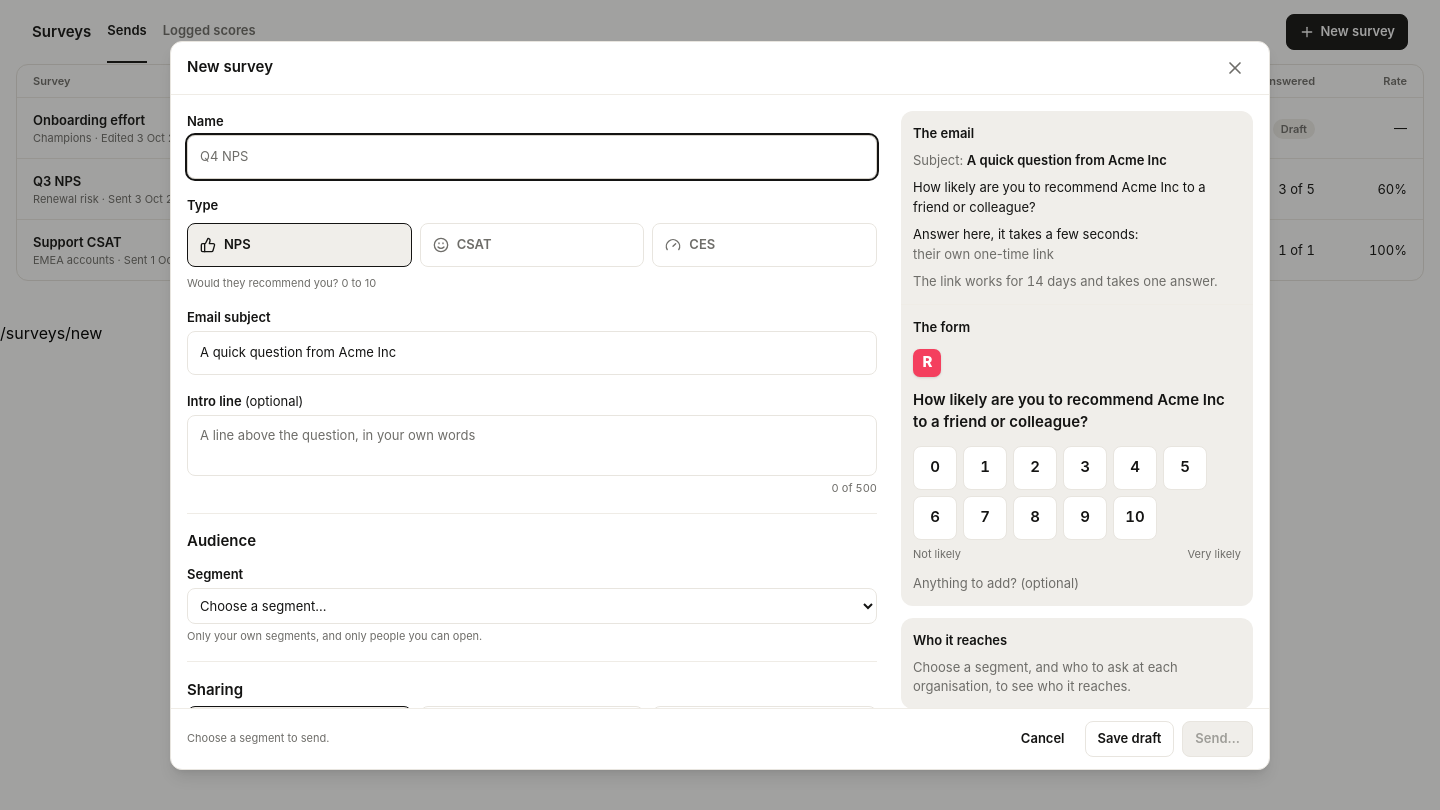
Scenario: the New survey modal (spec §2.2) › saves a draft with the contract body, then opens its page
Type "Q4 CSAT" into the field labelled "Name".
click(532, 156); type("Q4 CSAT")  # box [187,134,877,178]
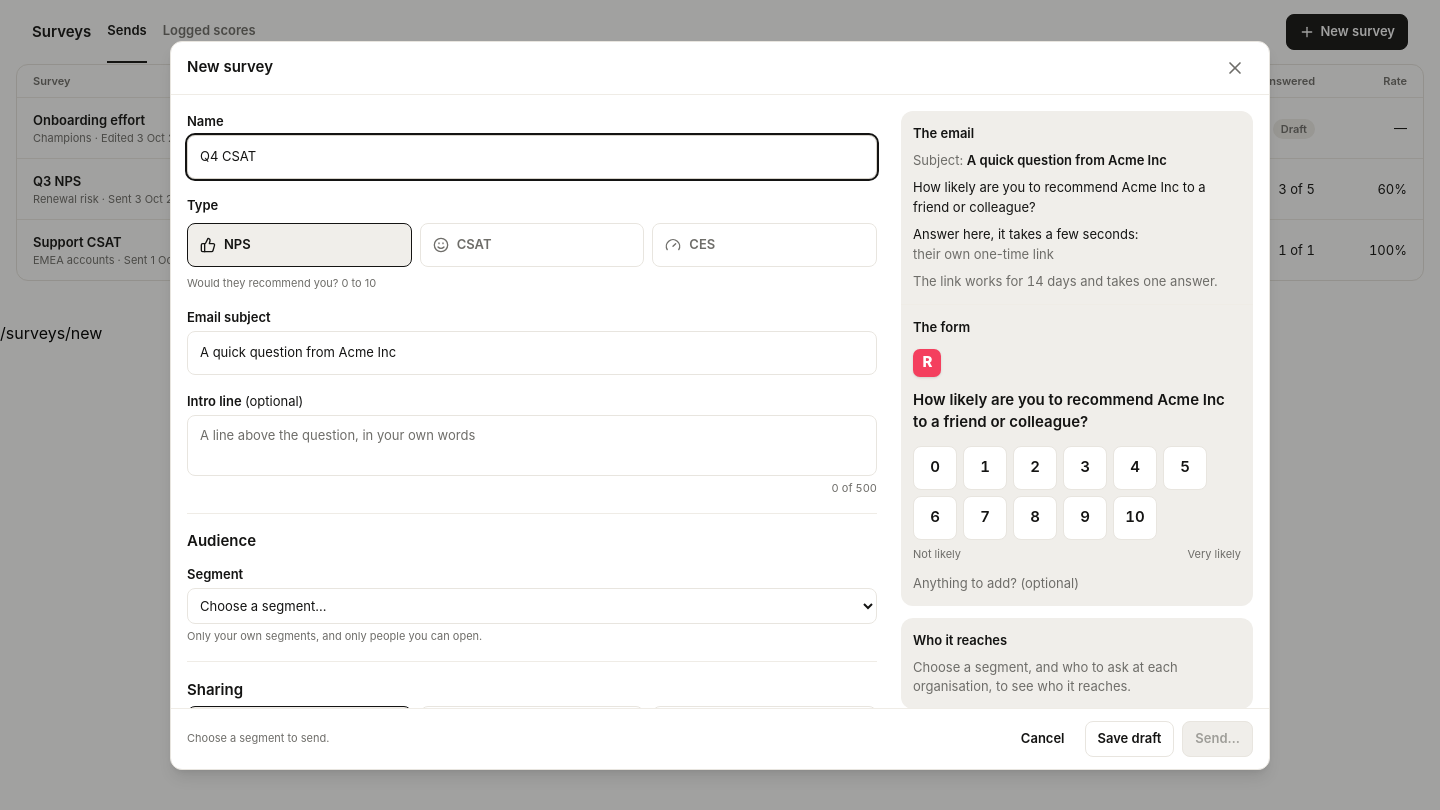
Click the radio button labelled "CSAT".
click(532, 244)  # box [420,222,644,266]
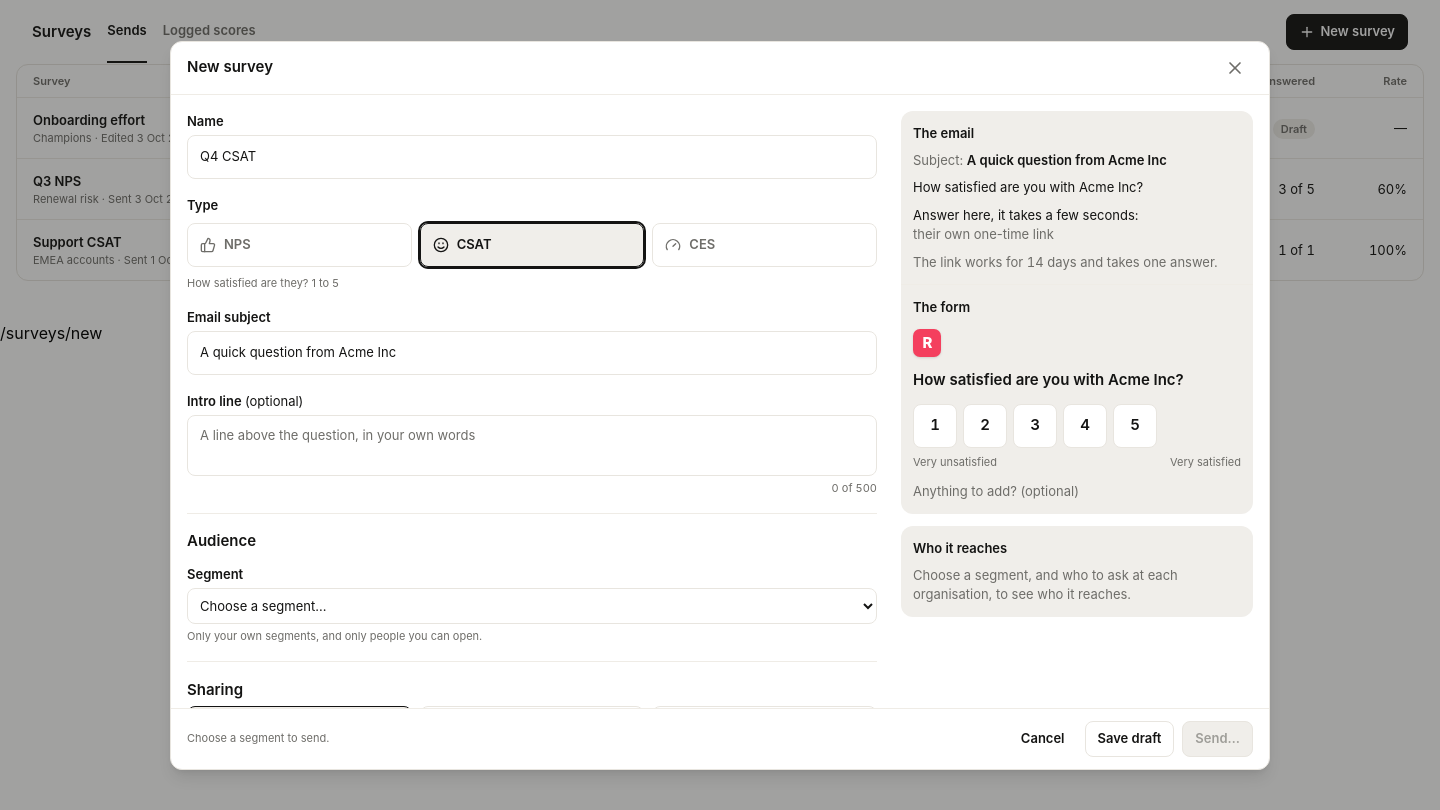
Type "Thanks for a good quarter." into the text box labelled "Intro line (optional)".
click(532, 446); type("Thanks for a good quarter.")  # box [187,415,877,476]
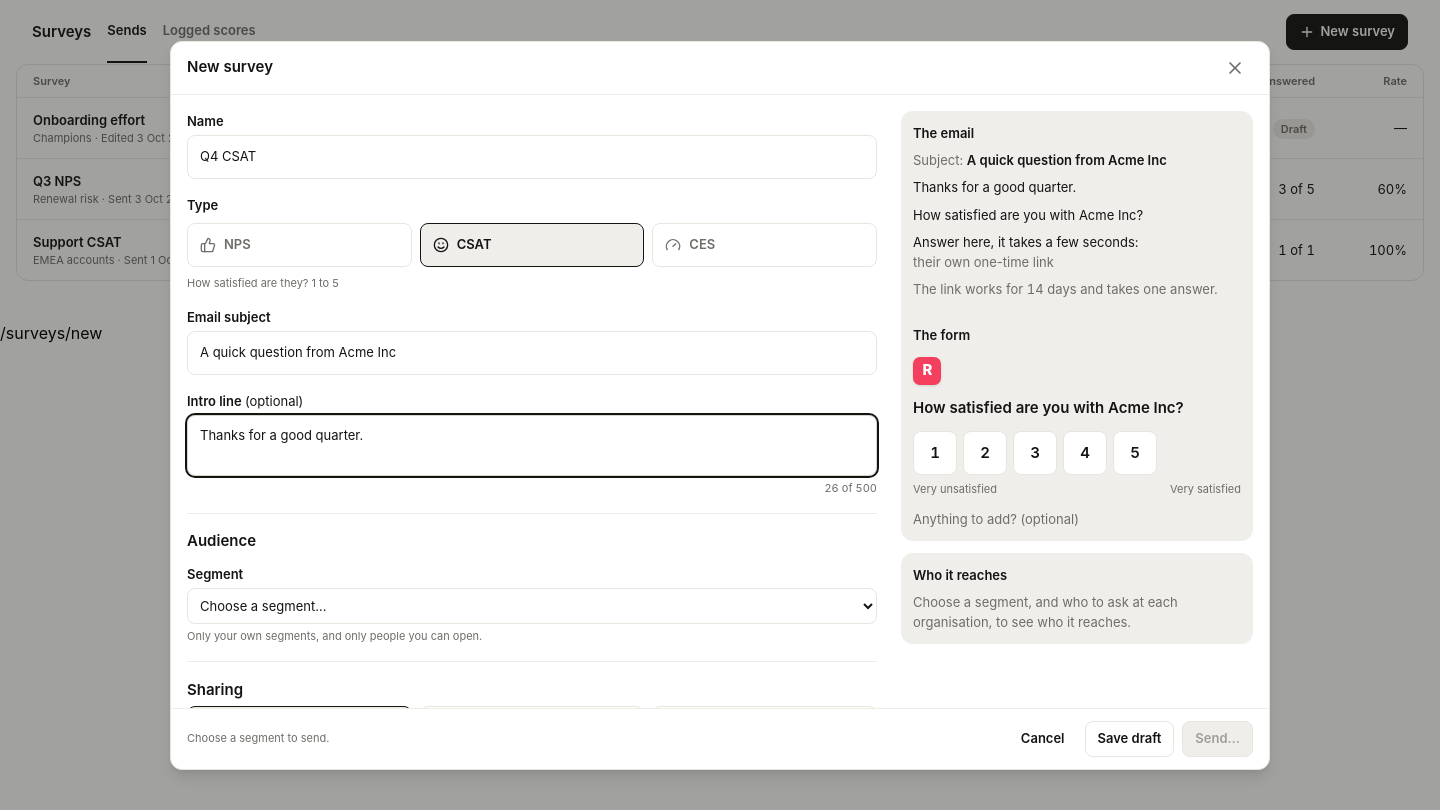
Select "Renewal risk" in the dropdown labelled "Segment" at (532, 606), box [187,588,877,624]
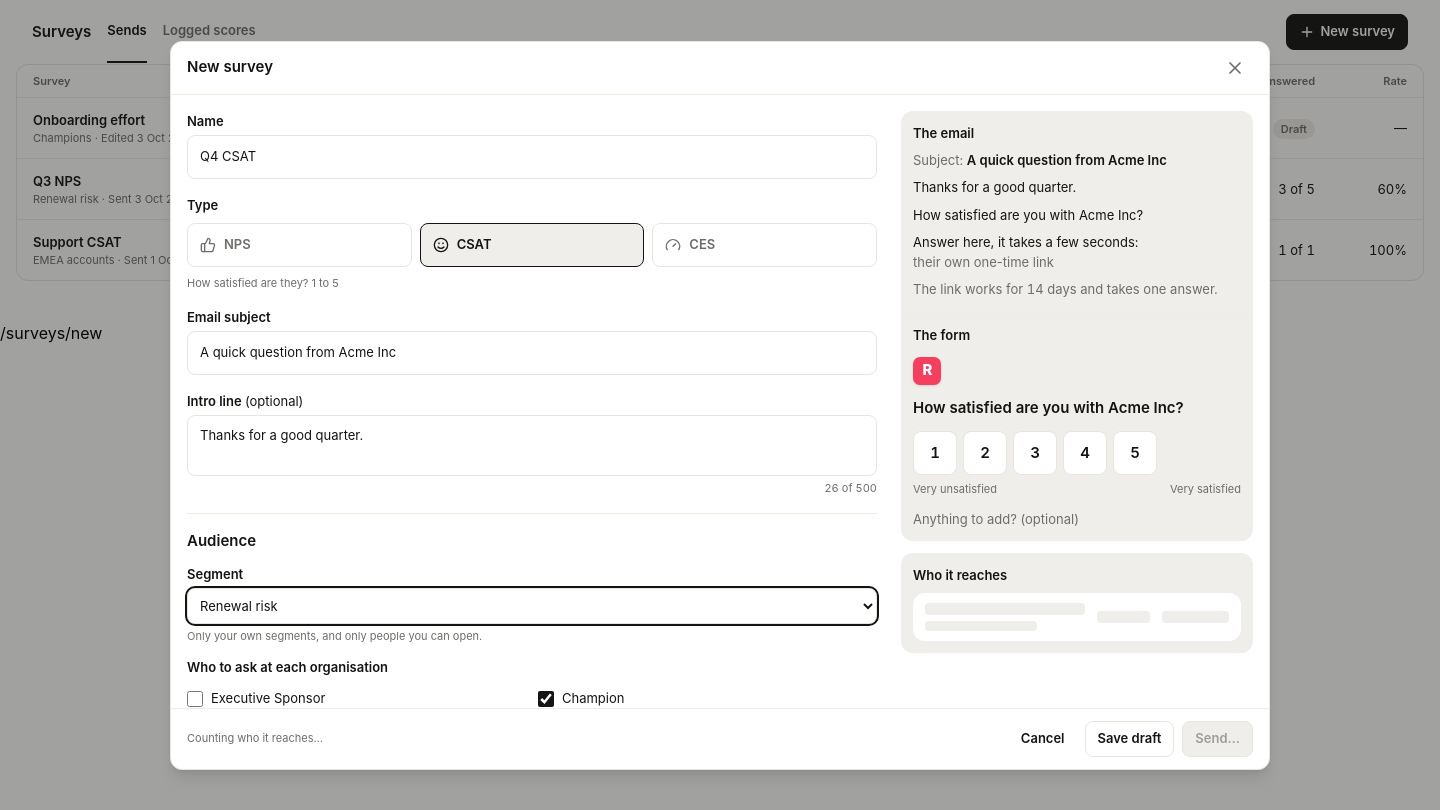
Click the button "Save draft".
click(1129, 738)  # box [1084,720,1174,756]
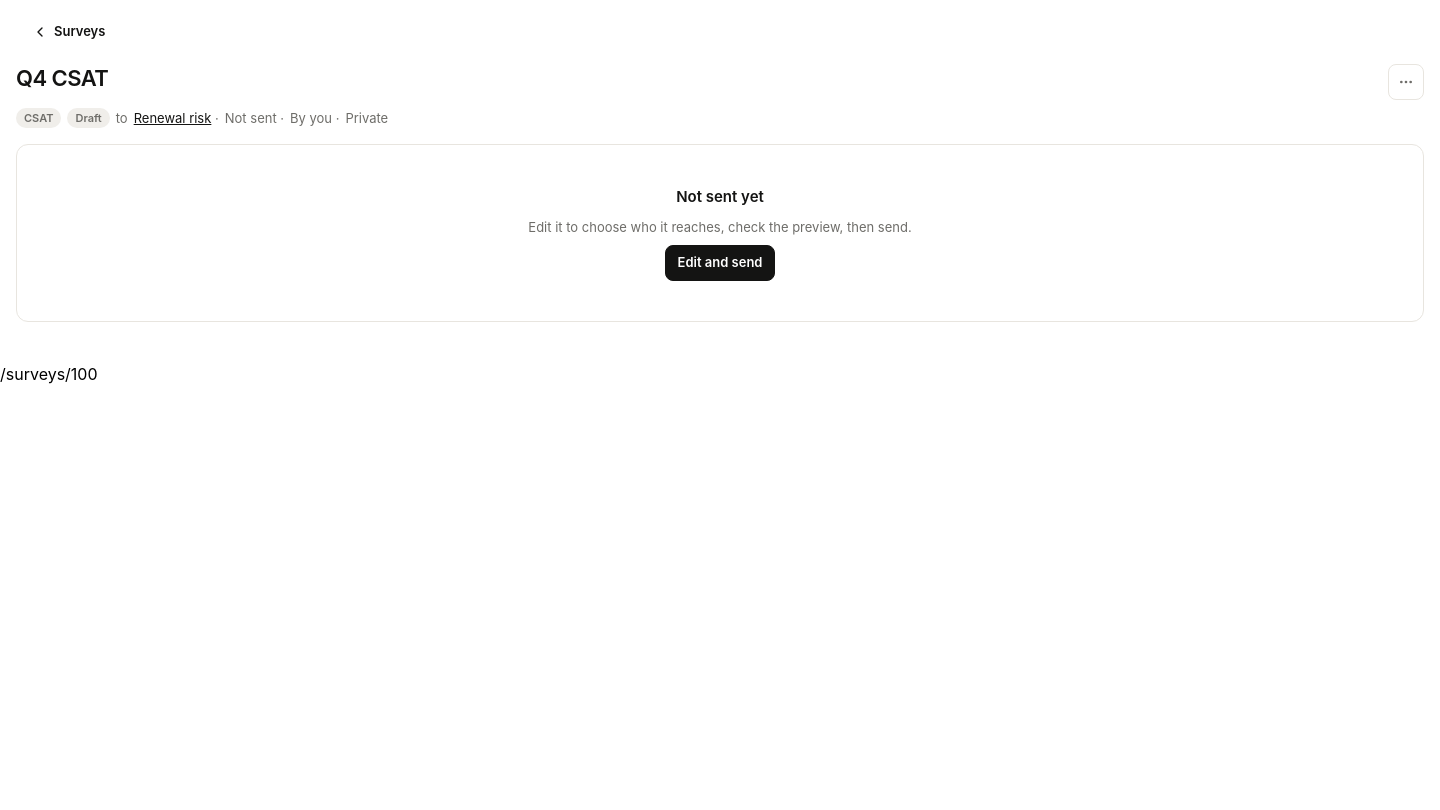
Now the text with test id "where" reads "/surveys/100", box [0,364,98,384]
Now the heading "Q4 CSAT" is shown, box [16,65,108,91]
